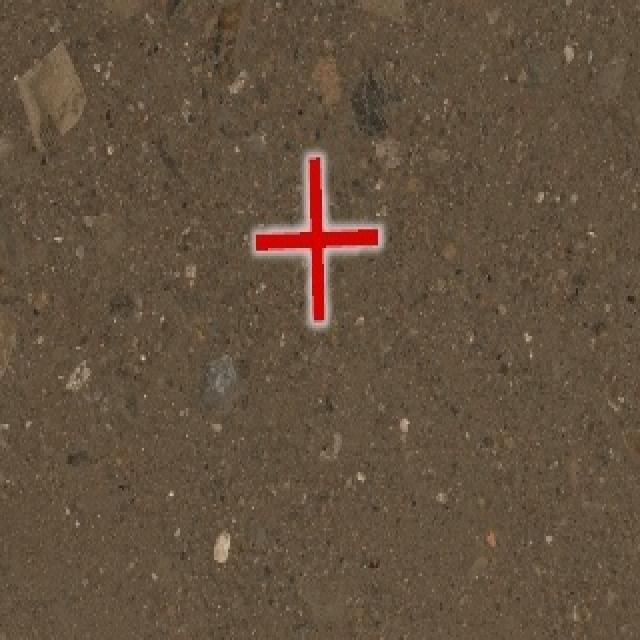x_marker: (255, 156, 379, 321)
